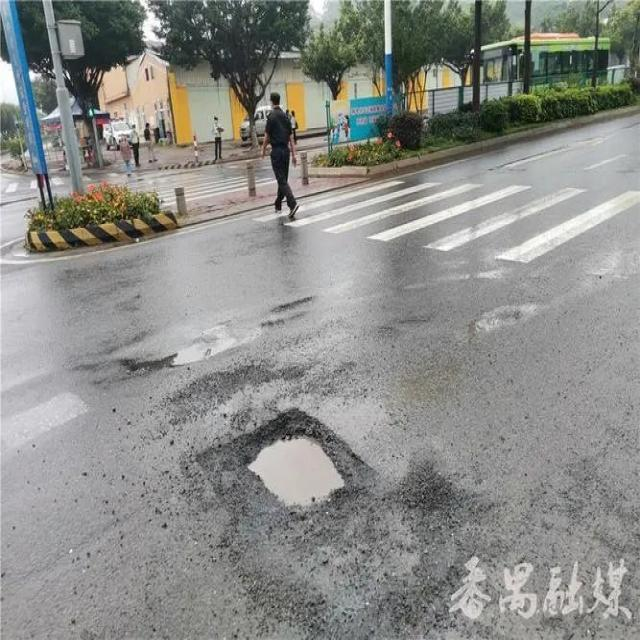pothole: (245, 414, 365, 518), (139, 302, 315, 370)
